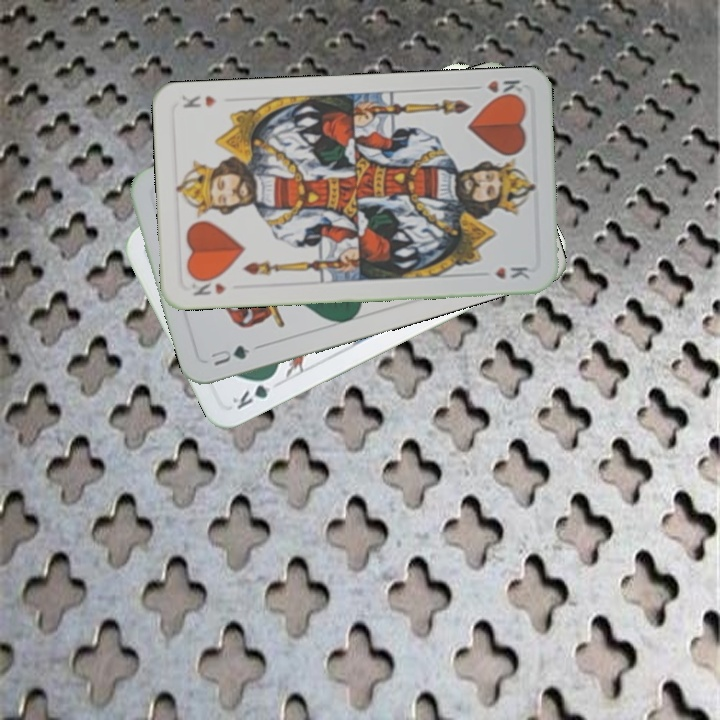GK: (228, 370, 279, 412)
GU: (206, 341, 253, 369)
HK: (466, 76, 526, 102), (188, 273, 229, 298)
